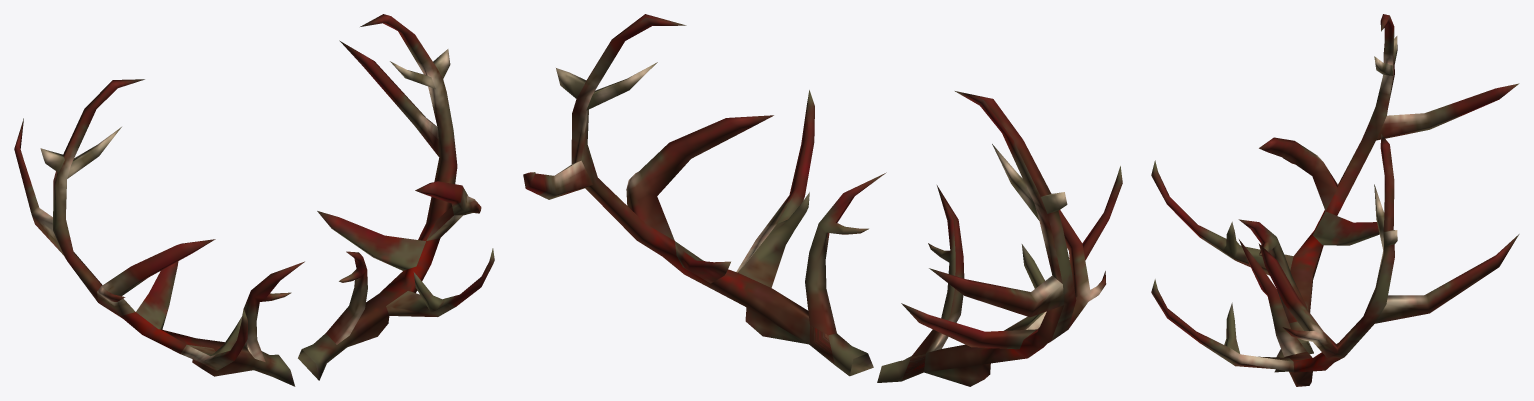
Rendered from antler.fbx.
3 renders of one model, left to right at view 1: azimuth 30°, elevation 25°; view 2: azimuth 150°, elevation 25°; view 3: azimuth 270°, elevation 25°, orthographic. The views are drawn at different scales.
Parts seen in each view (by area): view 1: Deer.001; view 2: Deer.001; view 3: Deer.001.
Part boxes in pixels (x1,y1,x2,y2): Deer.001: (14,14,494,386); Deer.001: (523,14,1122,386); Deer.001: (1151,14,1519,386).
Bounding box in the file's own units: 164 × 113 × 132.
